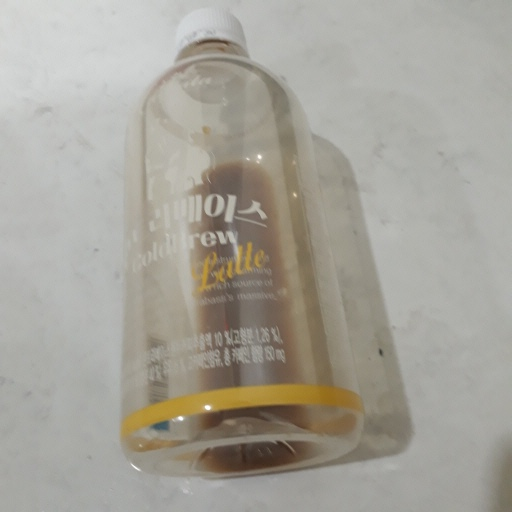Plastic_0: (118, 5, 365, 481)
